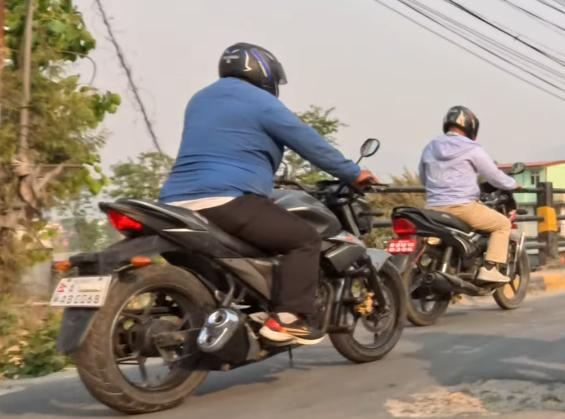bike: (45, 136, 411, 419), (389, 149, 537, 323)
